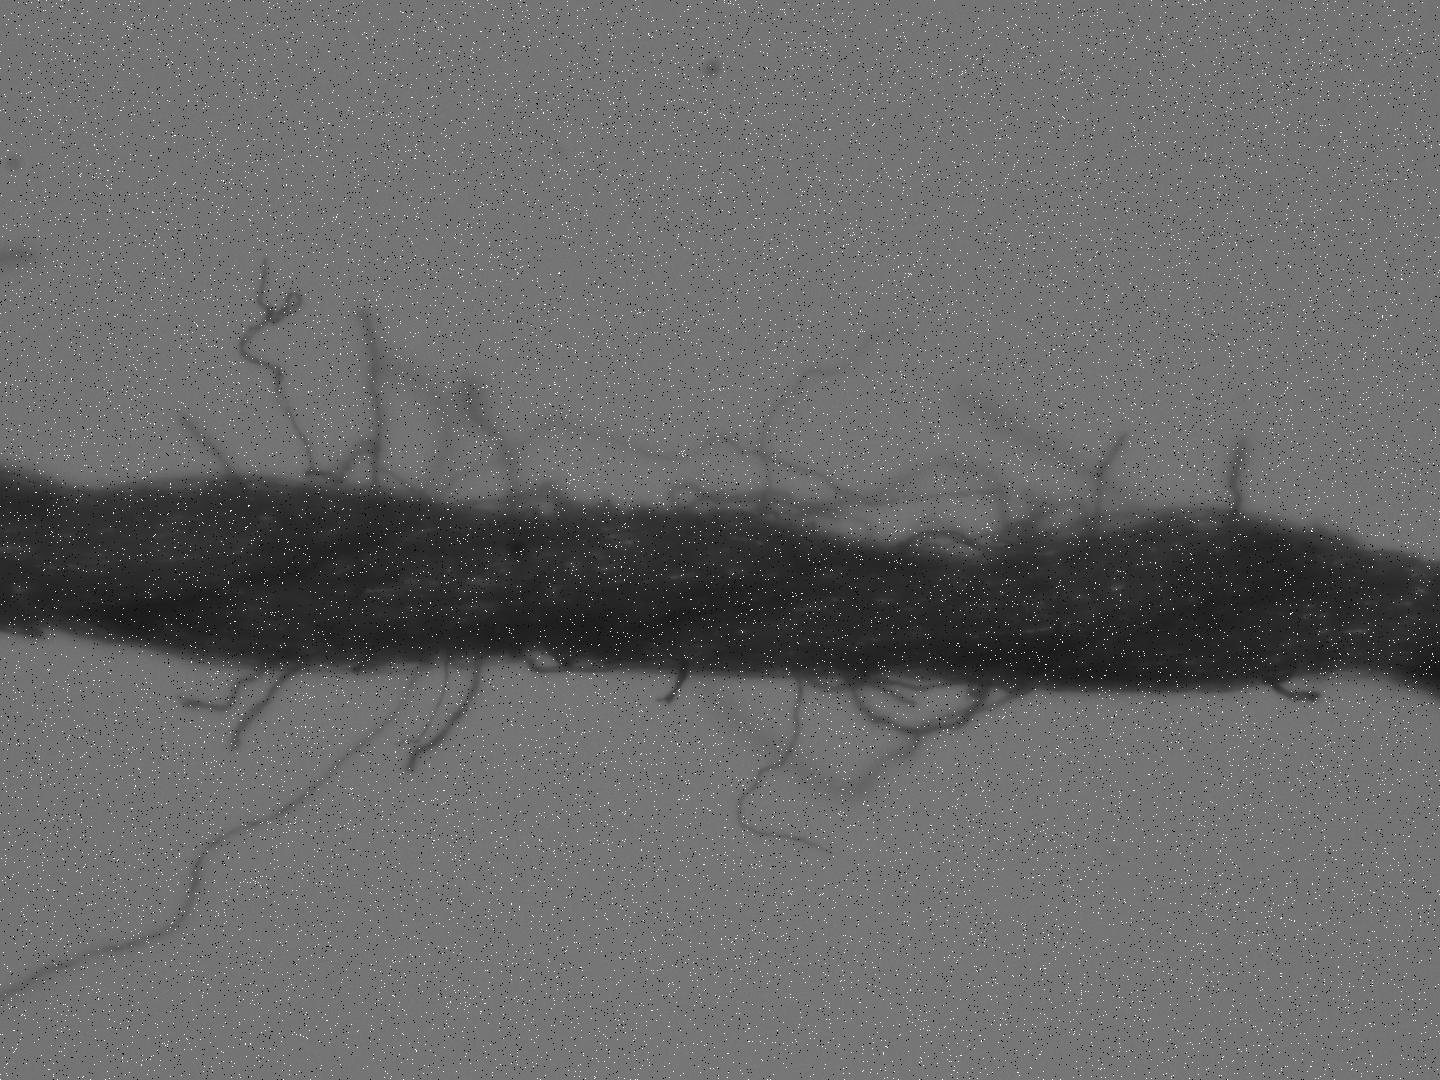loop_fiber: (435, 415, 1039, 549), (695, 675, 1042, 798), (714, 462, 1083, 563), (347, 304, 449, 505)
protruding_fiber: (1, 655, 423, 1001), (235, 294, 434, 503), (749, 326, 917, 534), (734, 669, 833, 863), (403, 655, 488, 778), (460, 366, 519, 523), (230, 664, 316, 754), (172, 659, 265, 715), (1091, 431, 1137, 539), (187, 416, 245, 490), (1225, 439, 1252, 529), (1261, 673, 1328, 707), (647, 669, 692, 712)
